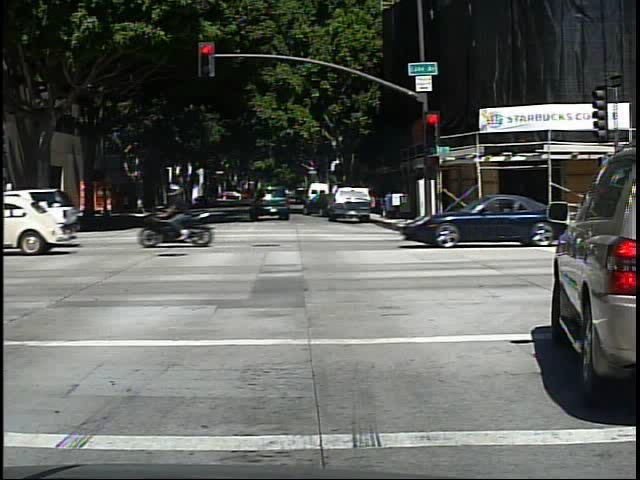person: (176, 180, 215, 241), (63, 191, 73, 223)
